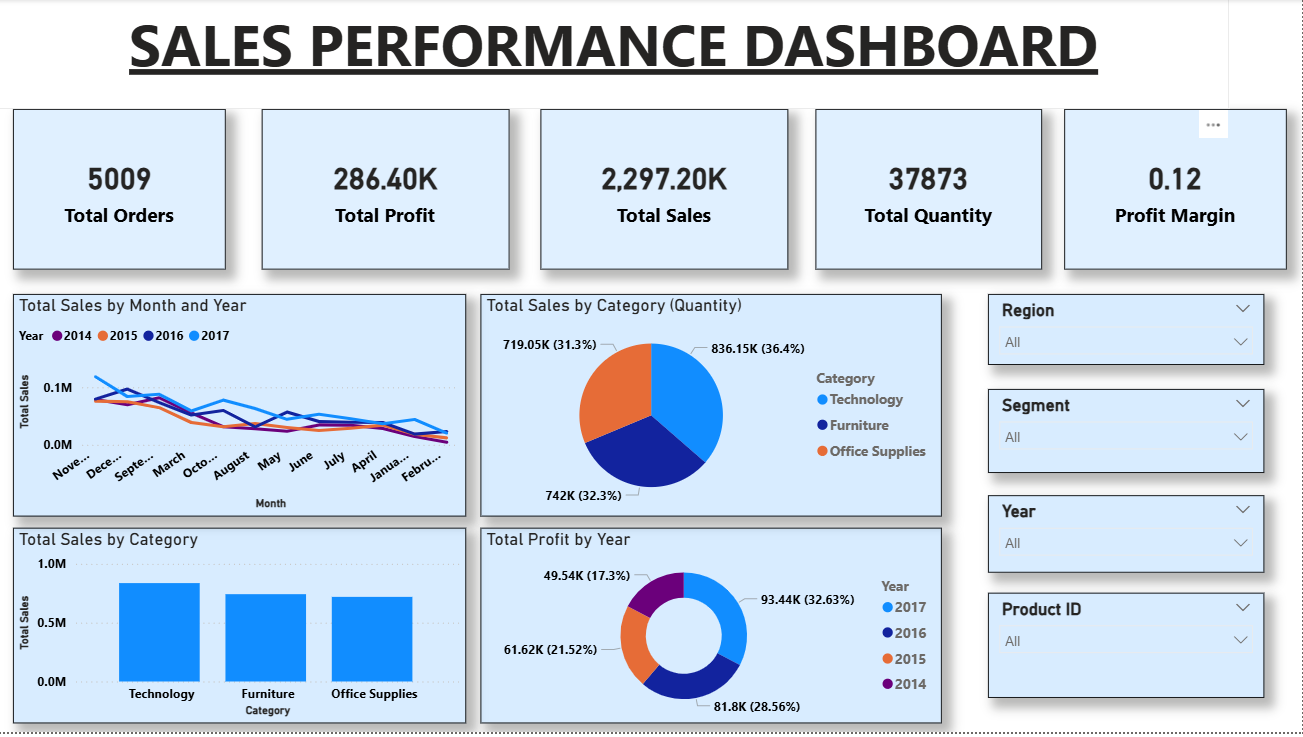

What the dashboard file says about the page in this screenshot:
{"tool":"powerbi","page":{"name":"Sales_Performance","canvas":[1280,720],"ordinal":0},"visuals":[{"type":"card","fields":{"Values":["Superstore.Total Orders"]},"box":[15.1,108.4,208.6,157.8],"z":0},{"type":"card","fields":{"Values":["Superstore.Profit Margin"]},"box":[1047,108.4,218.2,157.8],"z":1000},{"type":"card","fields":{"Values":["Superstore.Total Quantity"]},"box":[802.7,108.4,222.3,157.8],"z":2000},{"type":"card","fields":{"Values":["Superstore.Total Sales"]},"box":[532.4,108.4,242.9,157.8],"z":3000},{"type":"card","fields":{"Values":["Superstore.Total Profit"]},"box":[259.3,108.4,242.9,157.8],"z":4000},{"type":"lineChart","fields":{"Category":["Superstore.Month"],"Series":["Superstore.Year"],"Y":["Superstore.Total Sales"]},"box":[15.1,289.5,444.6,218.2],"z":5000},{"type":"columnChart","fields":{"Category":["Superstore.Category"],"Y":["Superstore.Total Sales"]},"box":[15.1,518.7,444.6,192.1],"z":6000},{"type":"pieChart","title":"Total Sales by Category (Quantity)","fields":{"Y":["Superstore.Total Sales"],"Category":["Superstore.Category"]},"box":[473.4,289.5,452.8,218.2],"z":7000},{"type":"donutChart","fields":{"Y":["Superstore.Total Profit"],"Category":["Superstore.Year"]},"box":[473.4,518.7,452.8,192.1],"z":8000},{"type":"slicer","fields":{"Values":["Superstore.Region"]},"box":[971.8,289.6,271.2,69.9],"z":9000},{"type":"slicer","fields":{"Values":["Superstore.Segment"]},"box":[971.8,382.8,271.2,82.2],"z":10000},{"type":"slicer","fields":{"Values":["Superstore.Year"]},"box":[971.8,487.1,271.2,76.1],"z":11000},{"type":"slicer","fields":{"Values":["Superstore.Product ID"]},"box":[971.8,582.8,271.2,103.1],"z":12000},{"type":"textbox","box":[0,0,1208.6,108],"z":13000}]}

Visuals, with their boxes in screenshot pixels (x1, y1, x2, y2), scaled from the page's 1280x720 canvas onto the 1303x737 screenshot:
card - Superstore.Total Orders: [15, 111, 228, 272]
card - Superstore.Profit Margin: [1066, 111, 1288, 272]
card - Superstore.Total Quantity: [817, 111, 1043, 272]
card - Superstore.Total Sales: [542, 111, 789, 272]
card - Superstore.Total Profit: [264, 111, 511, 272]
lineChart - Superstore.Month x Superstore.Year: [15, 296, 468, 520]
columnChart - Superstore.Category x Superstore.Total Sales: [15, 531, 468, 728]
"Total Sales by Category (Quantity)" pieChart: [482, 296, 943, 520]
donutChart - Superstore.Total Profit x Superstore.Year: [482, 531, 943, 728]
slicer - Superstore.Region: [989, 296, 1265, 368]
slicer - Superstore.Segment: [989, 392, 1265, 476]
slicer - Superstore.Year: [989, 499, 1265, 576]
slicer - Superstore.Product ID: [989, 597, 1265, 702]
textbox: [0, 0, 1230, 111]
